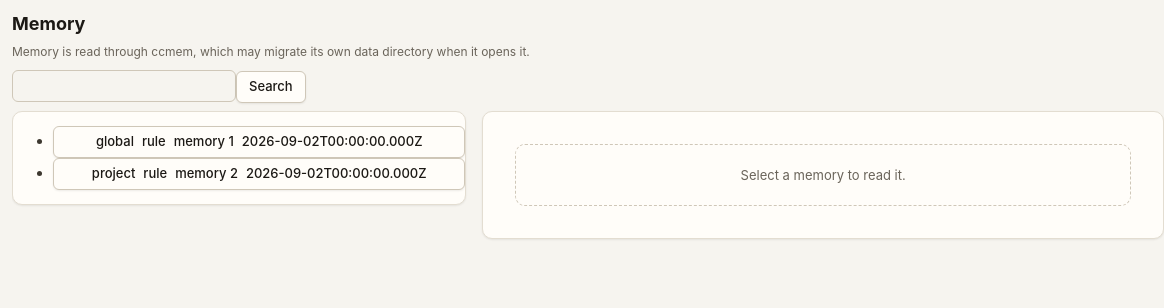
Test case: MemoryView (spec §5.2, W1) › shows a refused detail by its code
Click the button "global rule memory 1 2026-09-02T00:00:00.000Z".
click(259, 142)  # box 53,126 -> 465,158
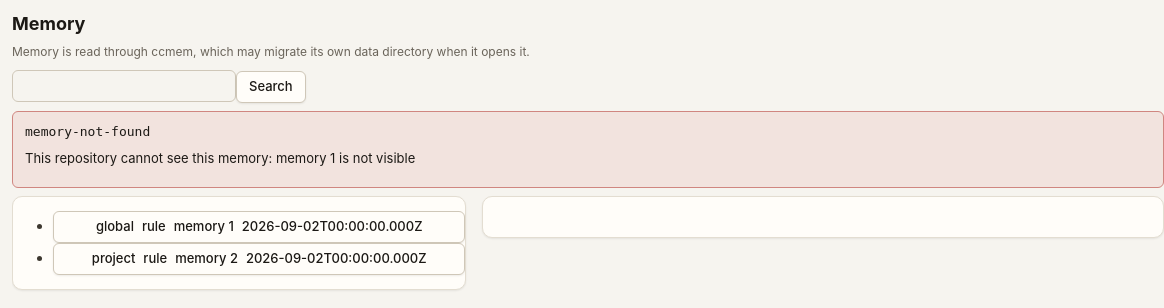
Result: the text with test id "refusal-code" reads "memory-not-found" at 25,124 -> 150,139
